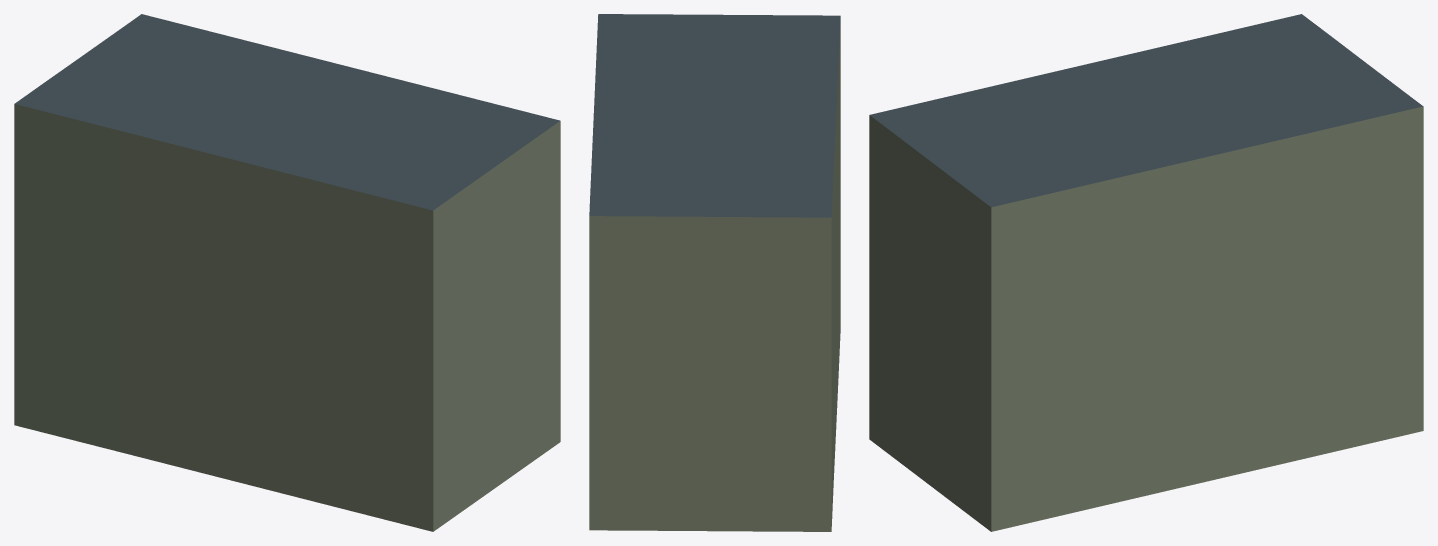
Rendered from nyc-1080738-0.glb.
3 renders of one model, left to right at view 1: azimuth 30°, elevation 25°; view 2: azimuth 150°, elevation 25°; view 3: azimuth 270°, elevation 25°, orthographic. The views are drawn at different scales.
Parts seen in each view (by area): view 1: nyc-1080738-0; view 2: nyc-1080738-0; view 3: nyc-1080738-0.
Part boxes in pixels (x1,y1,x2,y2): nyc-1080738-0: [14, 14, 560, 531]; nyc-1080738-0: [589, 14, 840, 531]; nyc-1080738-0: [869, 14, 1423, 531].
Bounding box in the file's own units: 23.15 × 18.12 × 28.03.
